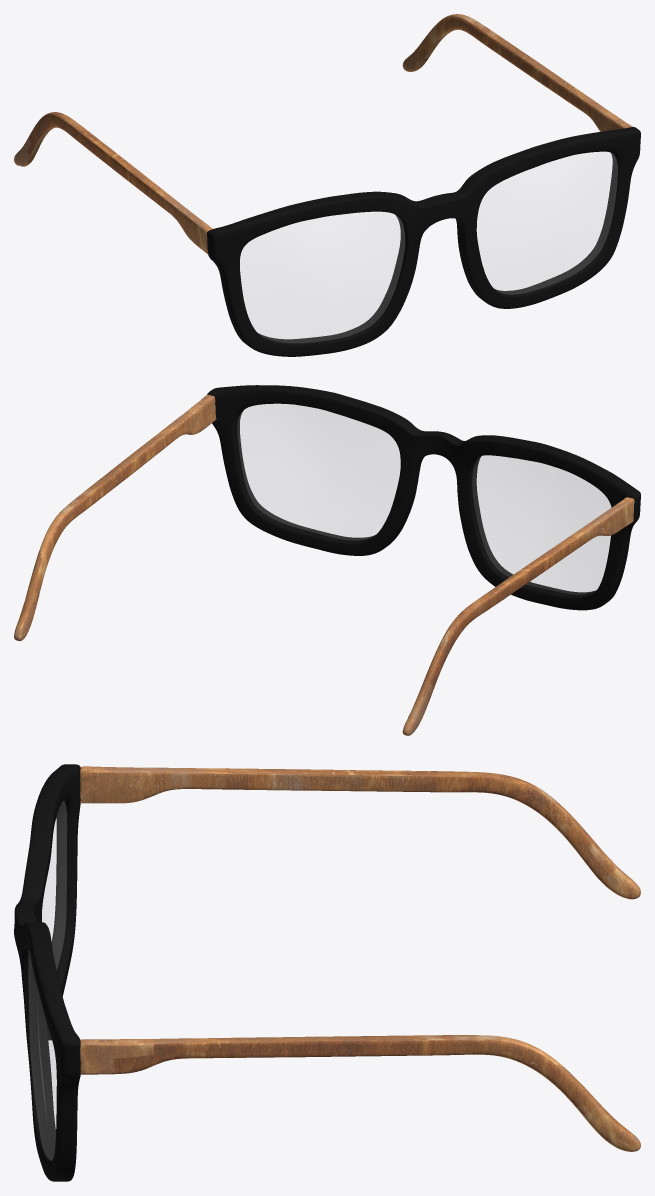
The model's file is glasses_opt.glb.
3 renders of one model, top to bottom at view 1: azimuth 30°, elevation 25°; view 2: azimuth 150°, elevation 25°; view 3: azimuth 270°, elevation 25°, orthographic. The views are drawn at different scales.
Visible parts, largest first — view 1: Object_9, Object_5, Object_7; view 2: Object_9, Object_5, Object_7; view 3: Object_7, Object_5, Object_9.
Part boxes in pixels (<box>): Object_9: <box>240,152,617,342</box>; Object_5: <box>207,127,640,356</box>; Object_7: <box>14,14,632,254</box>; Object_9: <box>237,404,610,594</box>; Object_5: <box>207,385,640,610</box>; Object_7: <box>14,394,634,735</box>; Object_7: <box>80,766,640,1151</box>; Object_5: <box>14,764,80,1181</box>; Object_9: <box>28,801,66,1160</box>.
Size of the model in its own units: 1.41 by 0.4825 by 1.33.
Materials: 3 (1 with a texture image).
